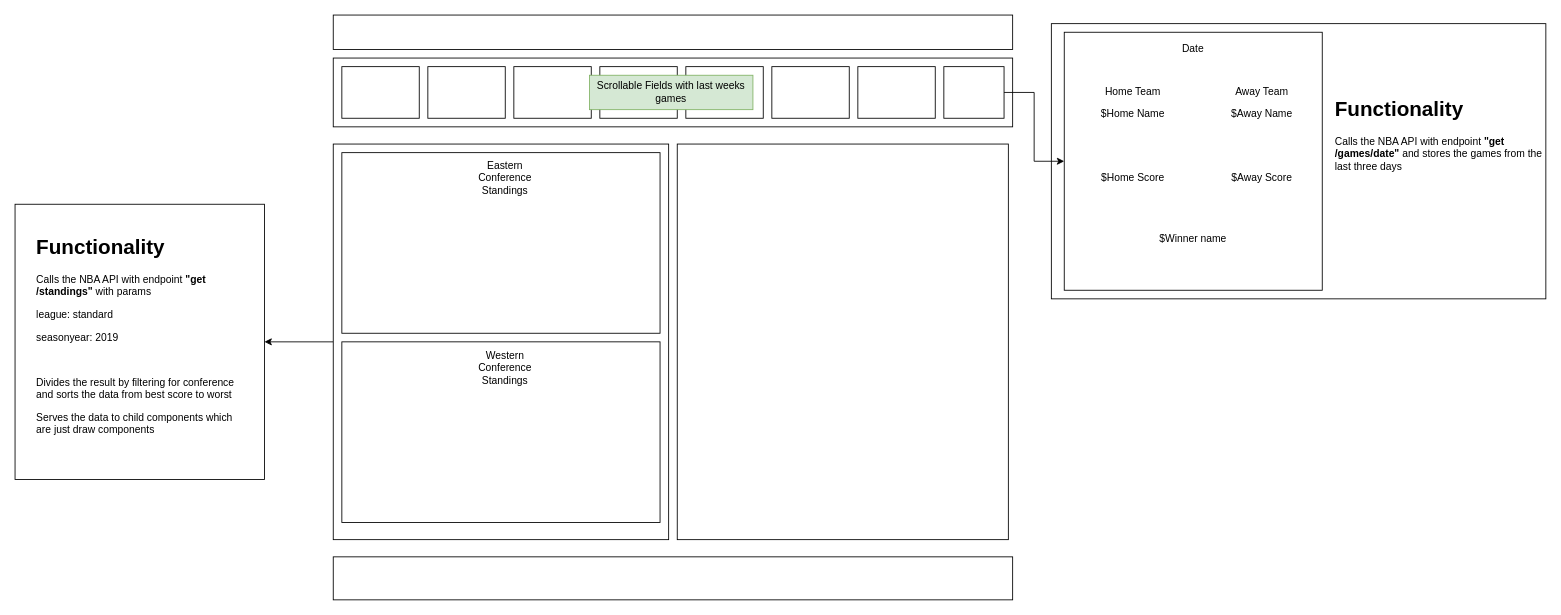
The diagram is 1561 pixels wide and 615 high, and some of its shapes have lost their labels. Here are the shapes that lost their labels. From the top down, the centre of each, then its label:
the point at 672,31: NBA stats
the point at 672,578: by MaticPecovnik github link: asdasdas
